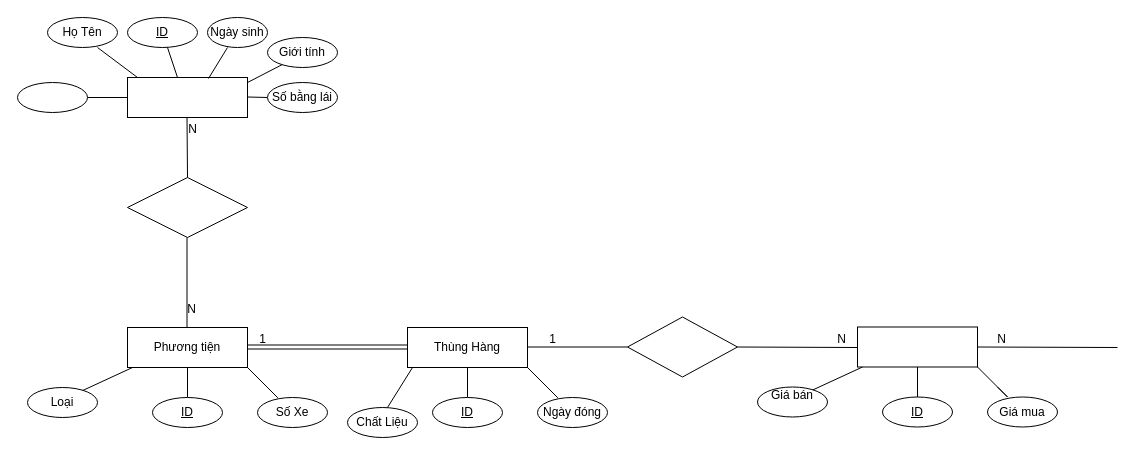
This 1136x455 diagram has some shape labels left out. Each missing label, with the centre of its shape:
"CCCD" goes at point 52,97.
"Chứa" goes at point 682,346.
"Sản Phẩm" goes at point 917,346.
"Tài xế" goes at point 187,97.
"Vận chuyển" goes at point 187,207.
